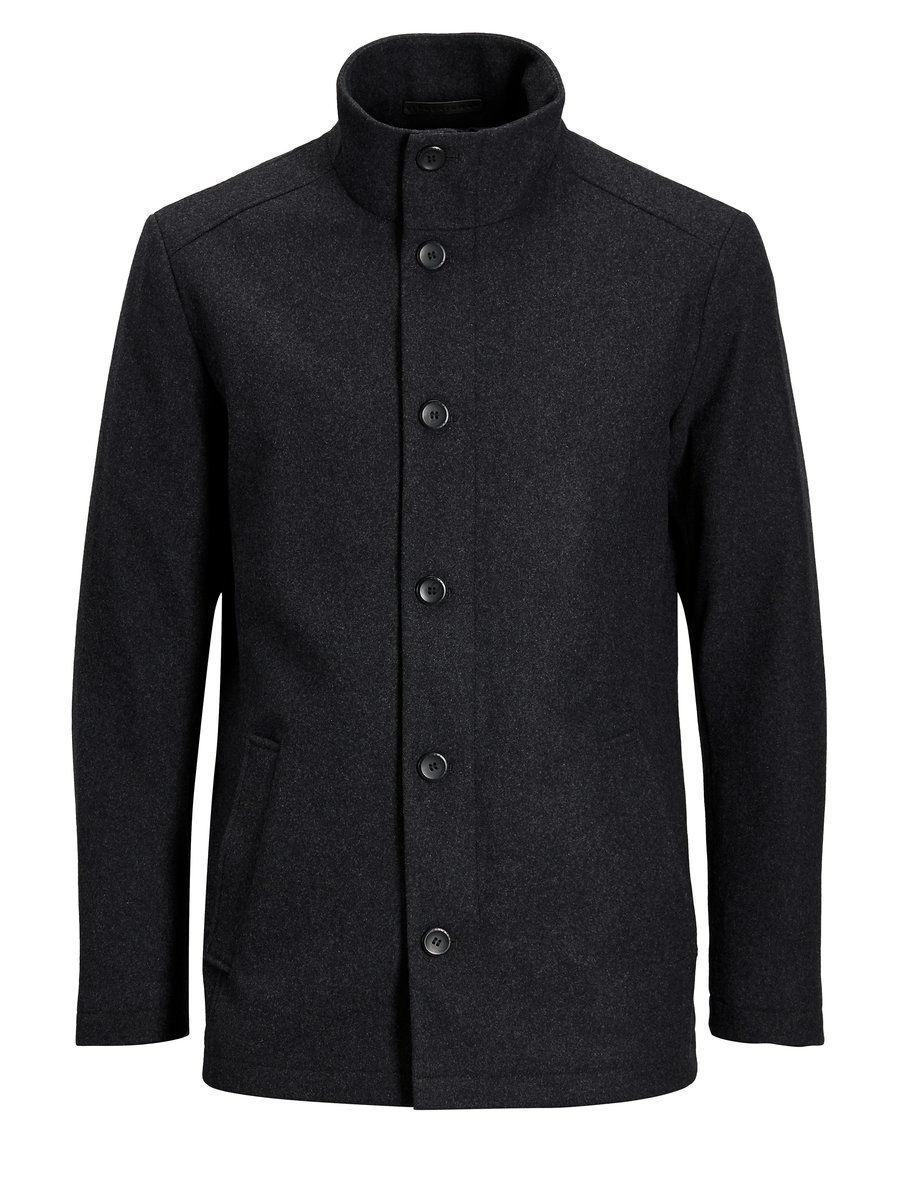teeshirt: (74, 25, 852, 1120)
